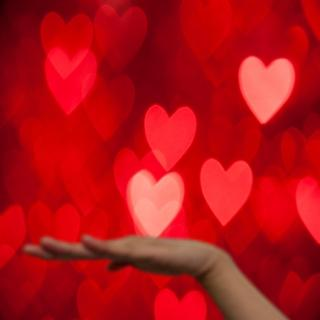WAIT: (21, 228, 220, 284)
